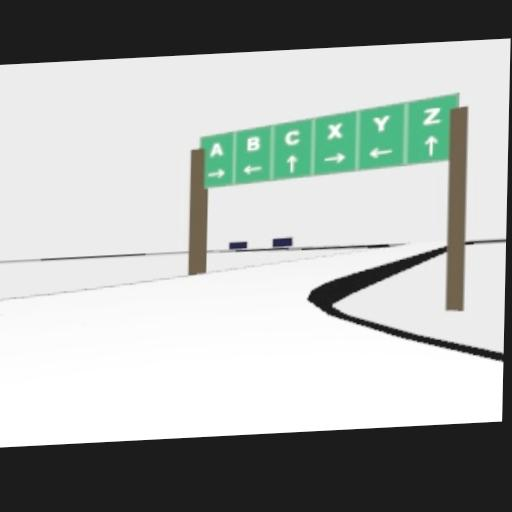A: (209, 139, 222, 156)
B: (246, 134, 259, 149)
C: (283, 127, 300, 144)
Left: (368, 145, 394, 157), (240, 163, 262, 174)
Right: (323, 150, 346, 163), (207, 166, 225, 177)
Straight: (423, 133, 438, 154), (285, 153, 297, 172)
X: (327, 120, 341, 137)
Y: (372, 113, 390, 132)
Z: (422, 105, 442, 124)
